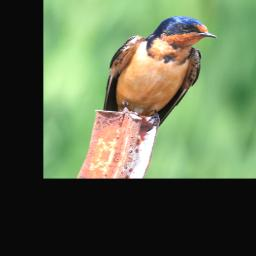Swallow: (90, 6, 222, 140)
